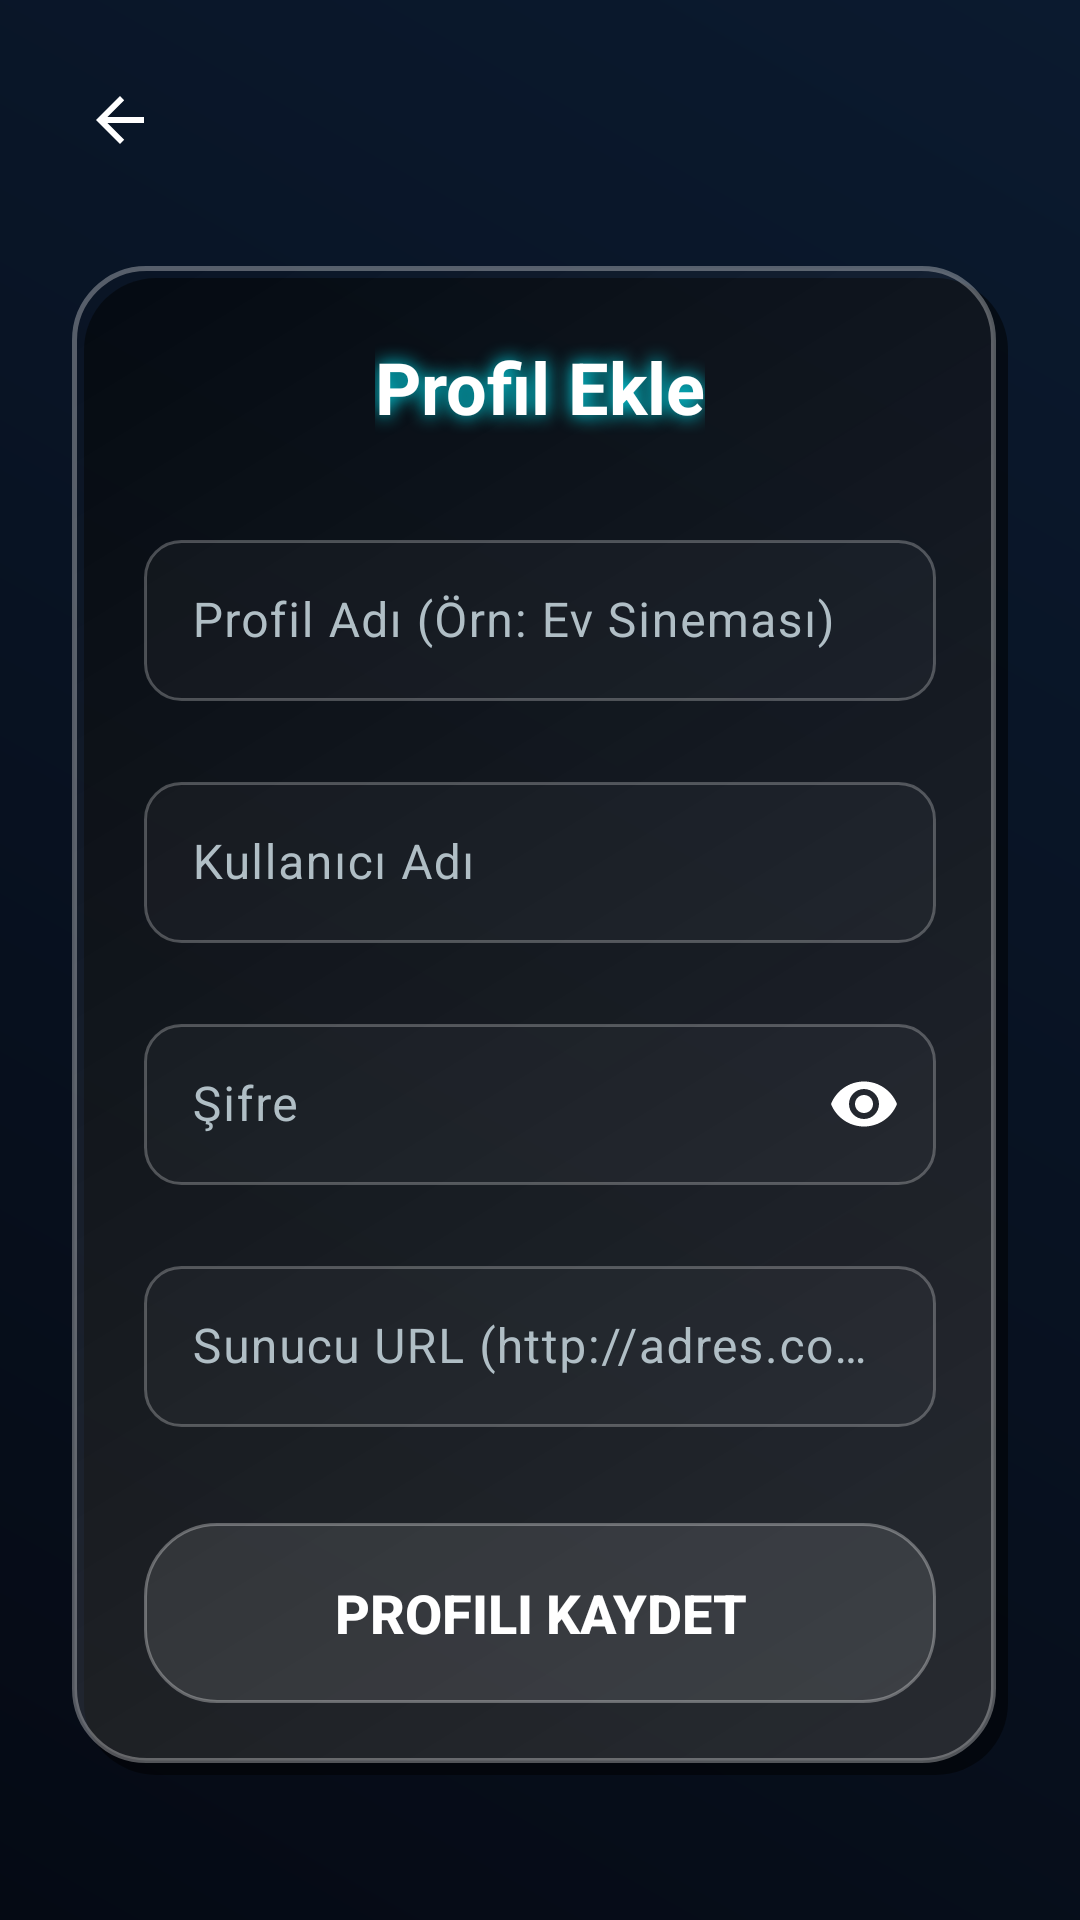

Screen size 1080w x 1920h. Icon name, then its center in pixels as point (x, y):
ab back: point (120, 120)
